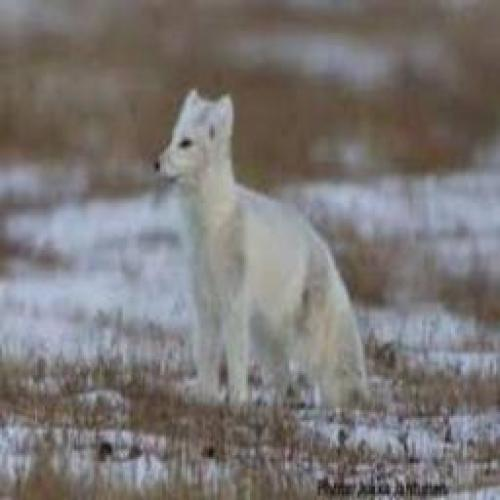arctic_fox-endangered: (155, 89, 368, 399)
